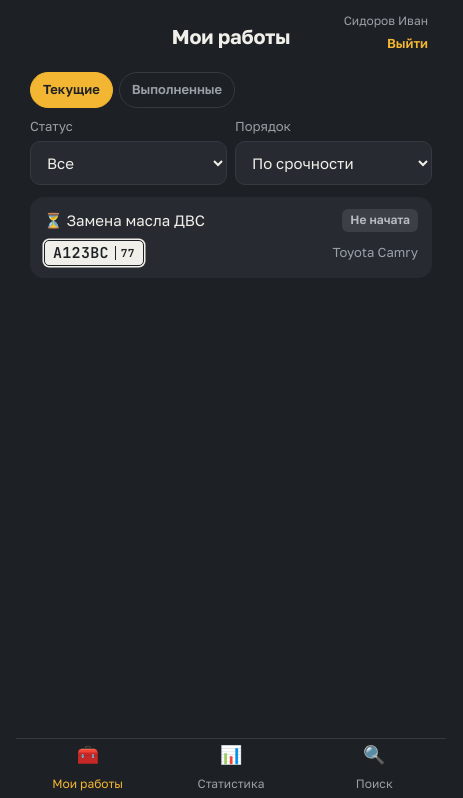
Scenario: toggle switches between current and done works, keeping the tab lit
Step 1. Click the link "Выполненные" → click(177, 90), box [119,72,235,108]
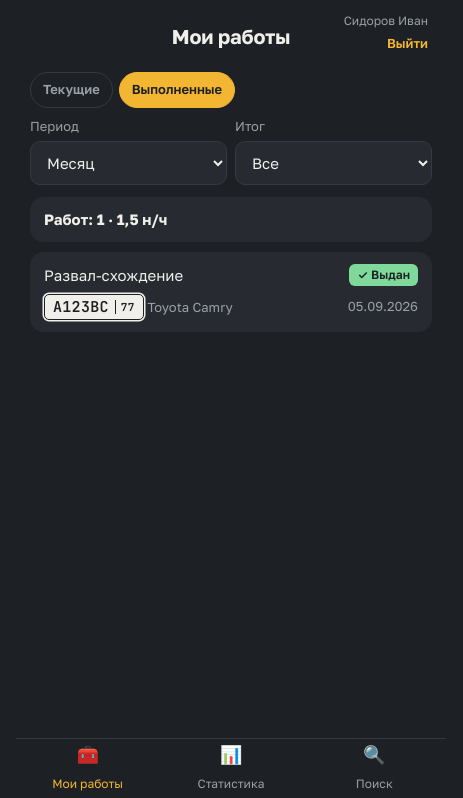
Expected: the text "Развал-схождение" is shown, [44,265,183,285]
